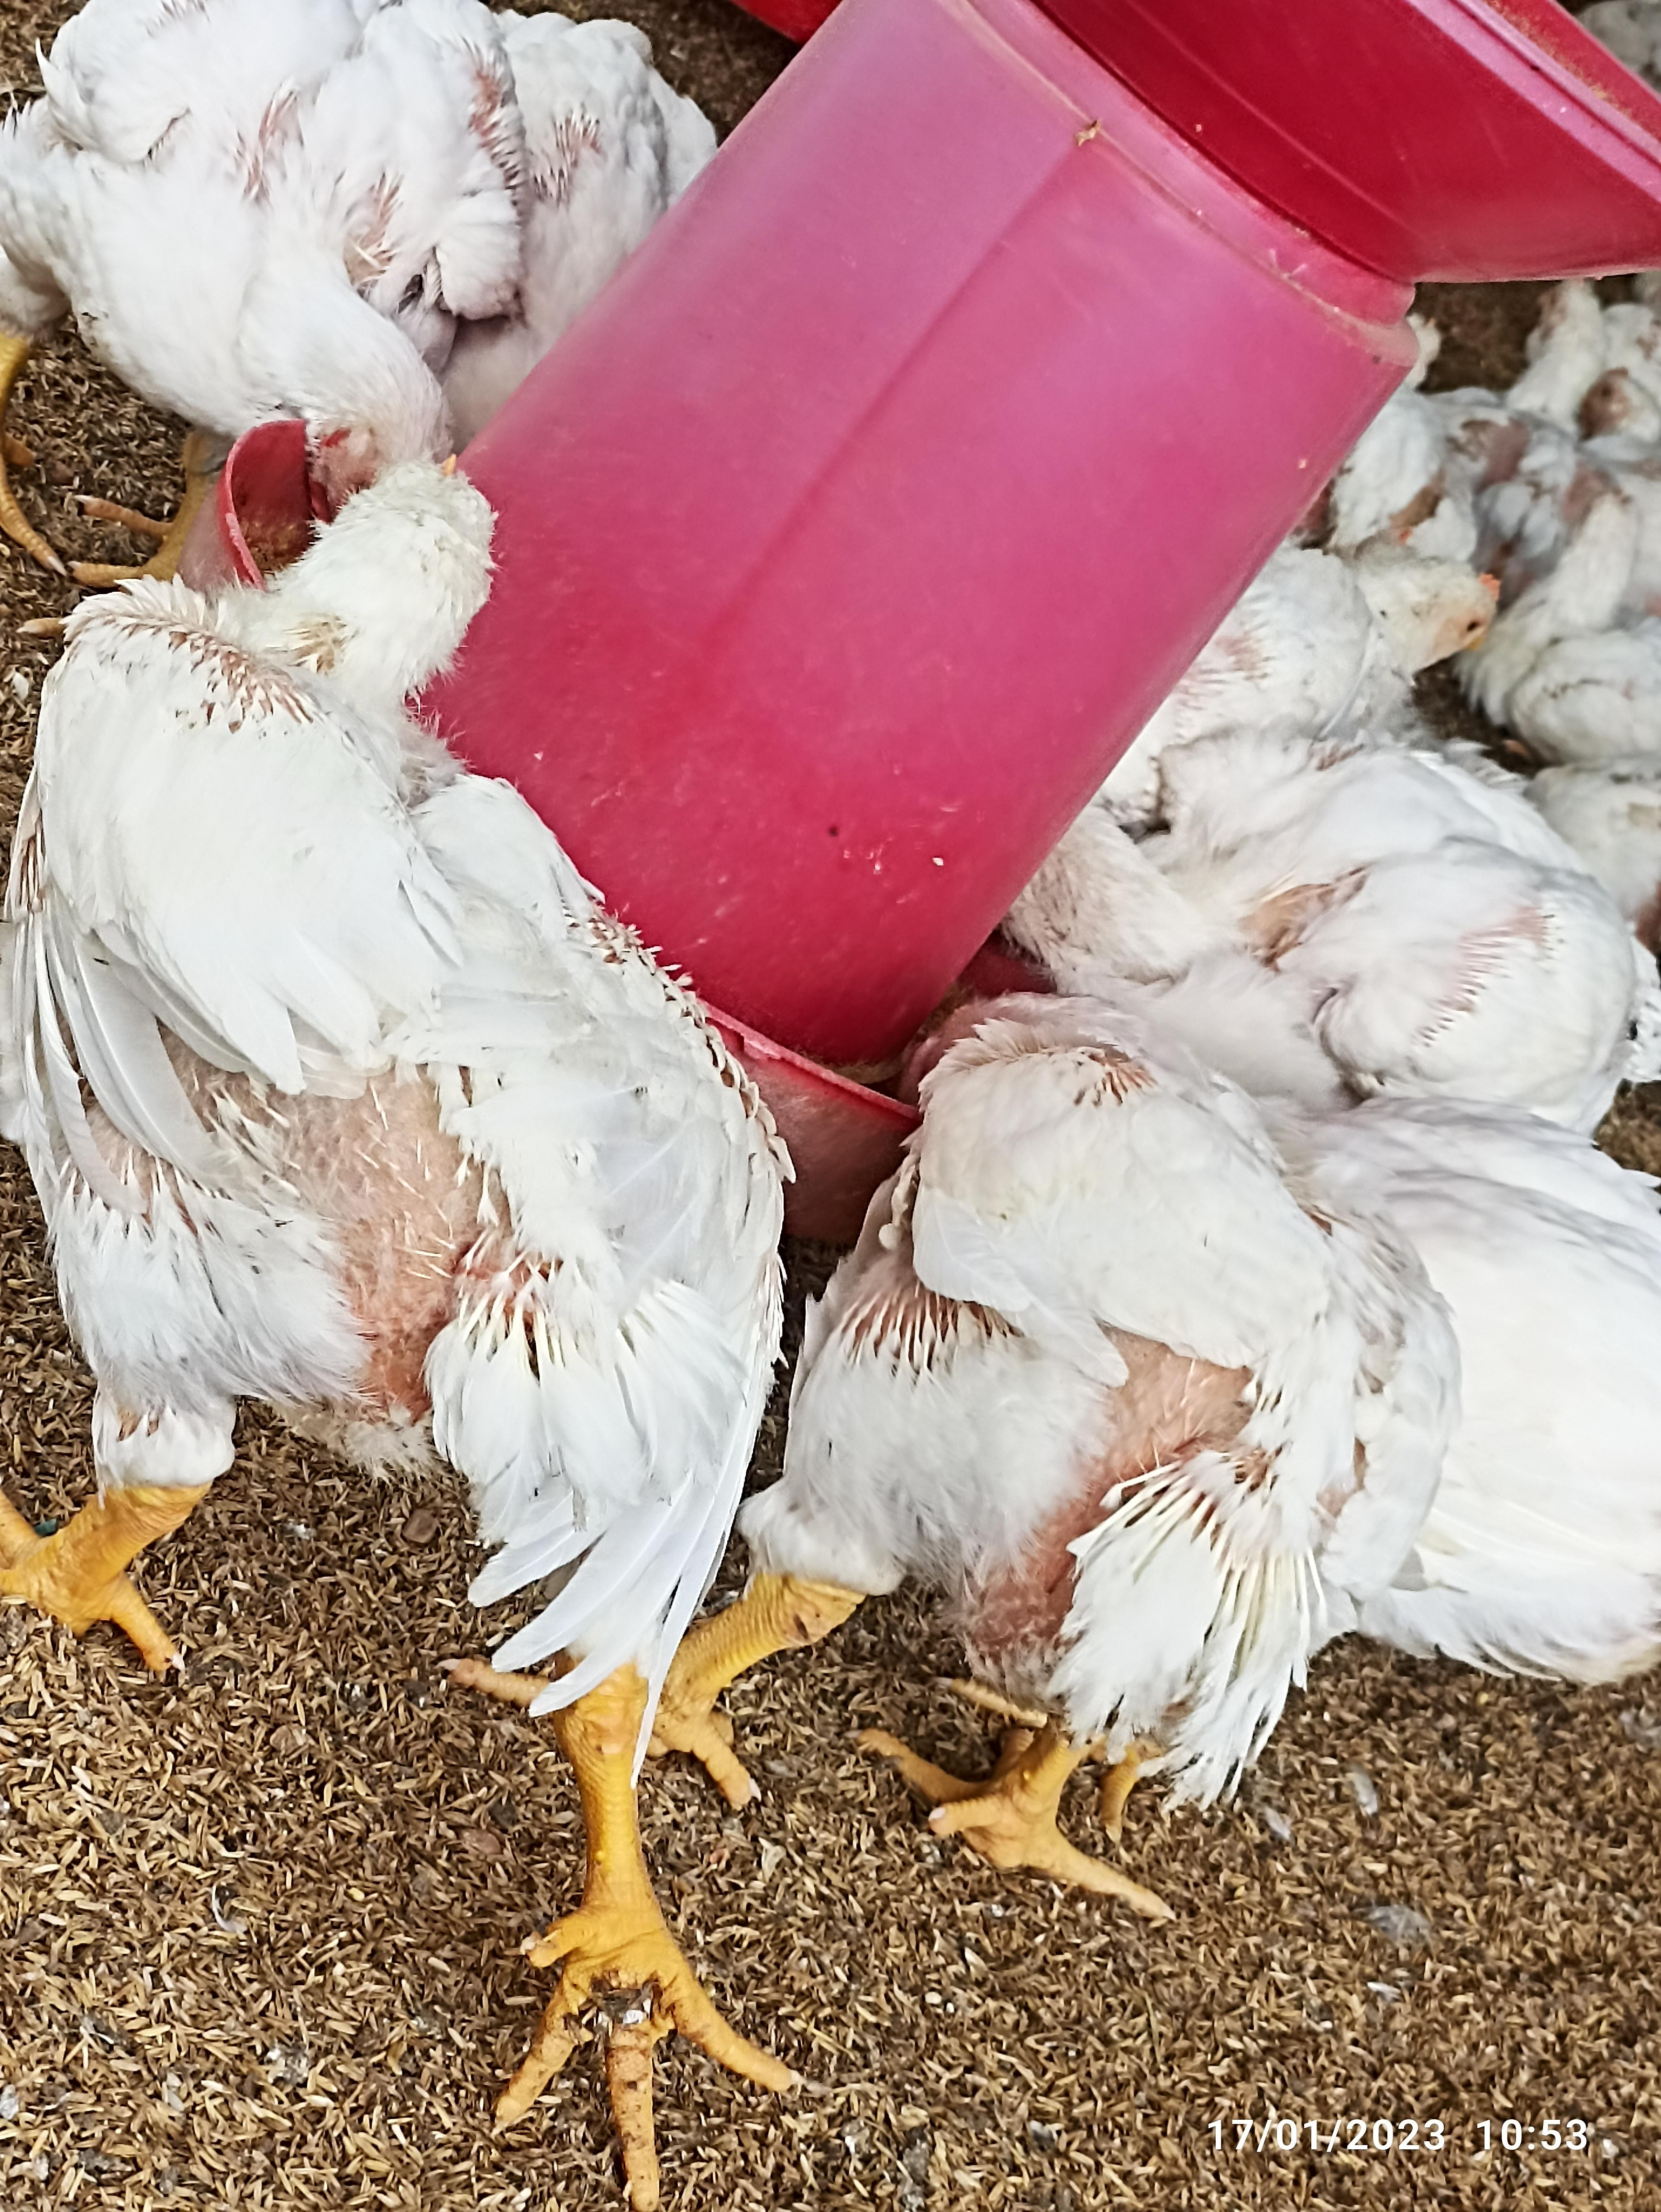Pollos: (49, 459, 775, 1572), (848, 987, 1425, 1753)
